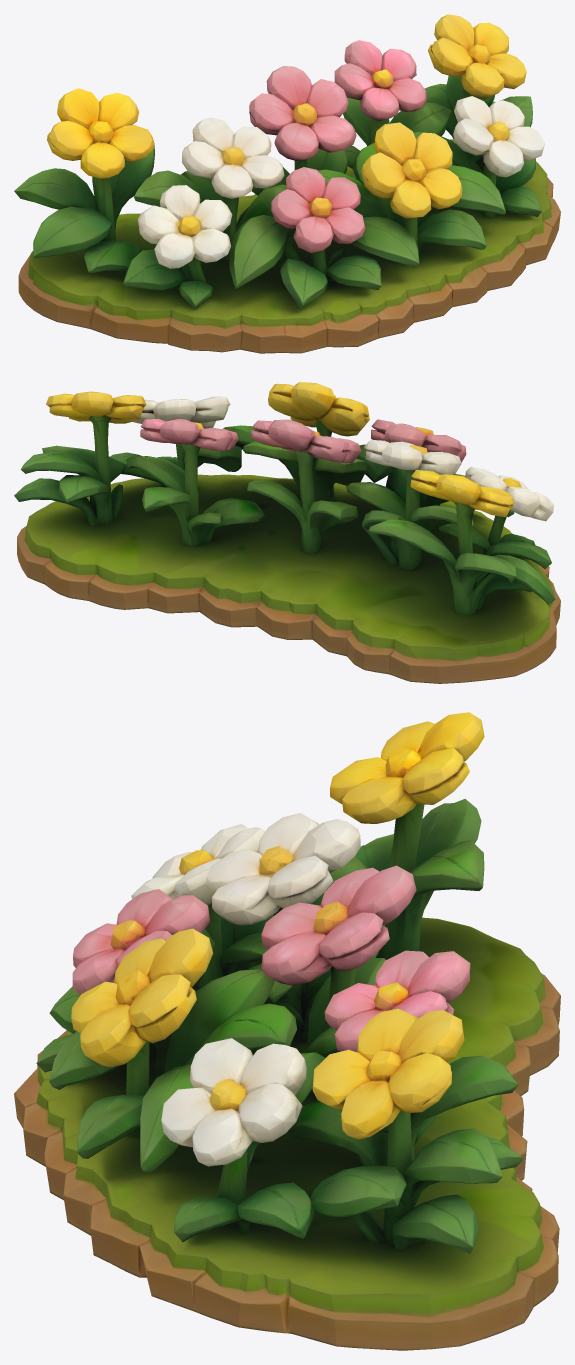
The model's file is flower_bed.glb.
3 renders of one model, top to bottom at view 1: azimuth 30°, elevation 25°; view 2: azimuth 150°, elevation 25°; view 3: azimuth 270°, elevation 25°, orthographic. The views are drawn at different scales.
Visible parts, largest first — view 1: model; view 2: model; view 3: model.
Part boxes in pixels (left/top/right/bottom): model: left=14, top=14, right=560, bottom=353; model: left=14, top=382, right=560, bottom=683; model: left=14, top=712, right=560, bottom=1350.
Size of the model in its own units: 1.9 by 0.6581 by 1.11.
Materials: 1 (1 with a texture image).
